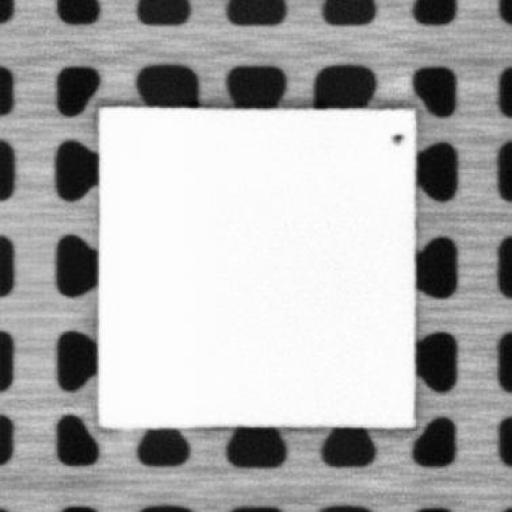DIE_INK: (387, 127, 404, 145)
